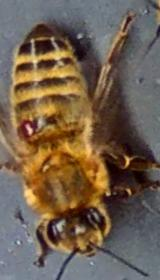varroa_mite: (11, 107, 45, 150)
